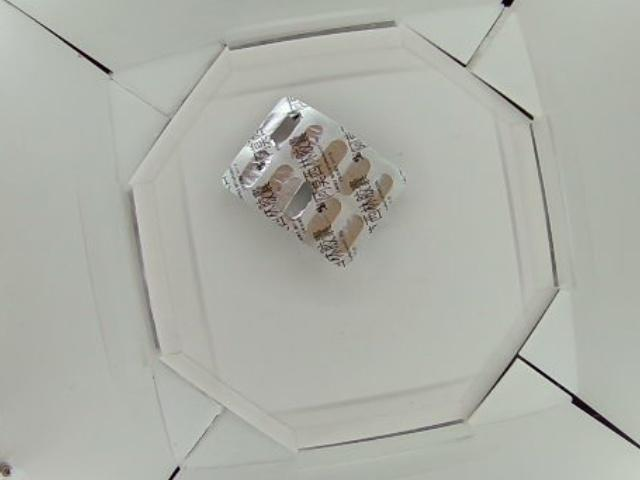Medicine: (225, 95, 408, 268)
